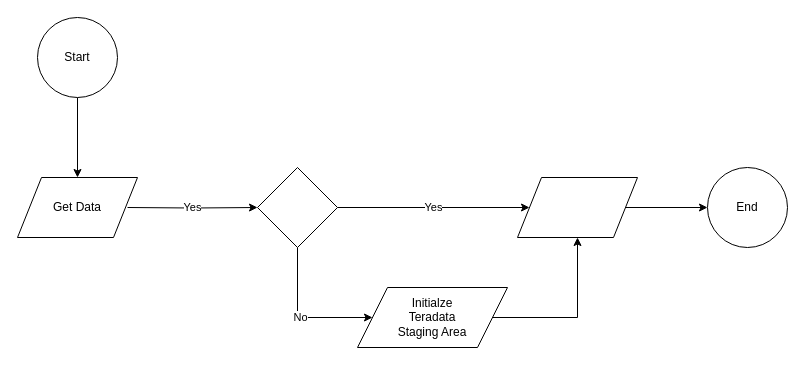
Some shapes in this 805 by 365 pixel diagram are drawn without their labels. Each missing label, with the box of its shape:
Check if state.json exists?: (256, 166, 338, 248)
Continue Ingestion: (516, 176, 638, 238)
